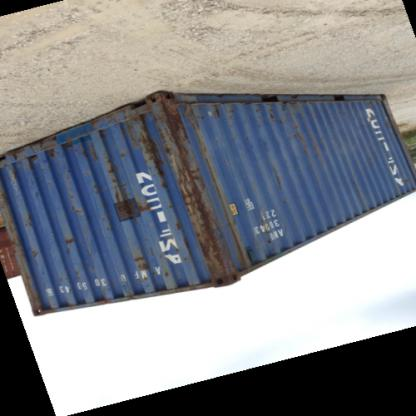Damage: (174, 106, 230, 274), (129, 106, 175, 186), (94, 151, 134, 219), (286, 119, 326, 168), (60, 174, 88, 228), (124, 254, 156, 283), (231, 228, 255, 265), (163, 216, 191, 247), (266, 162, 288, 198), (253, 106, 285, 128), (22, 173, 44, 201), (57, 234, 81, 258), (262, 221, 280, 252), (5, 142, 28, 166), (68, 265, 87, 293), (88, 115, 119, 132), (284, 102, 314, 116), (18, 216, 38, 234), (23, 248, 45, 264), (44, 147, 58, 164), (162, 267, 174, 285), (120, 292, 138, 304)
